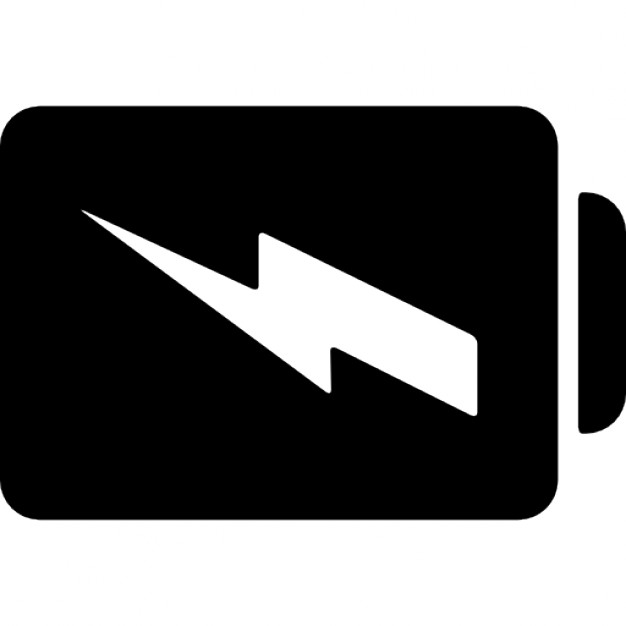charging sign: (1, 93, 626, 529)
